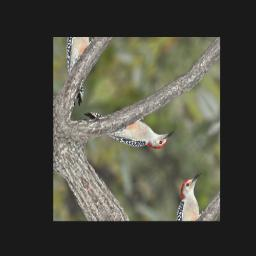Woodpecker: (83, 68, 177, 180)
